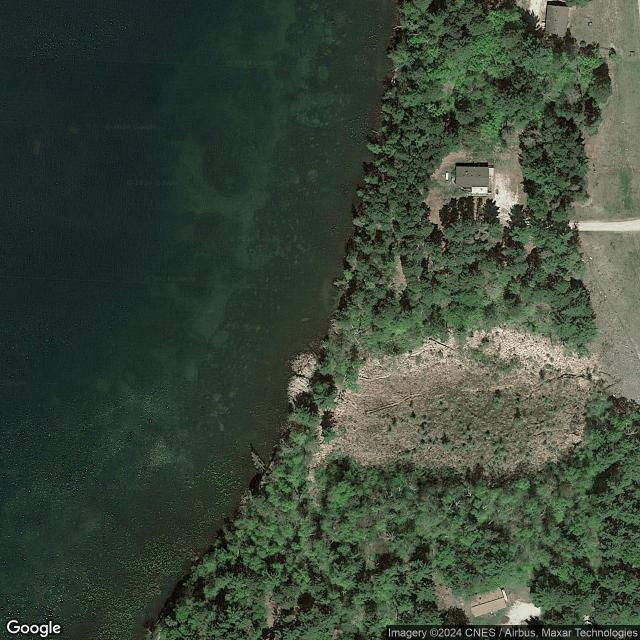Propane: (444, 170, 449, 181)
